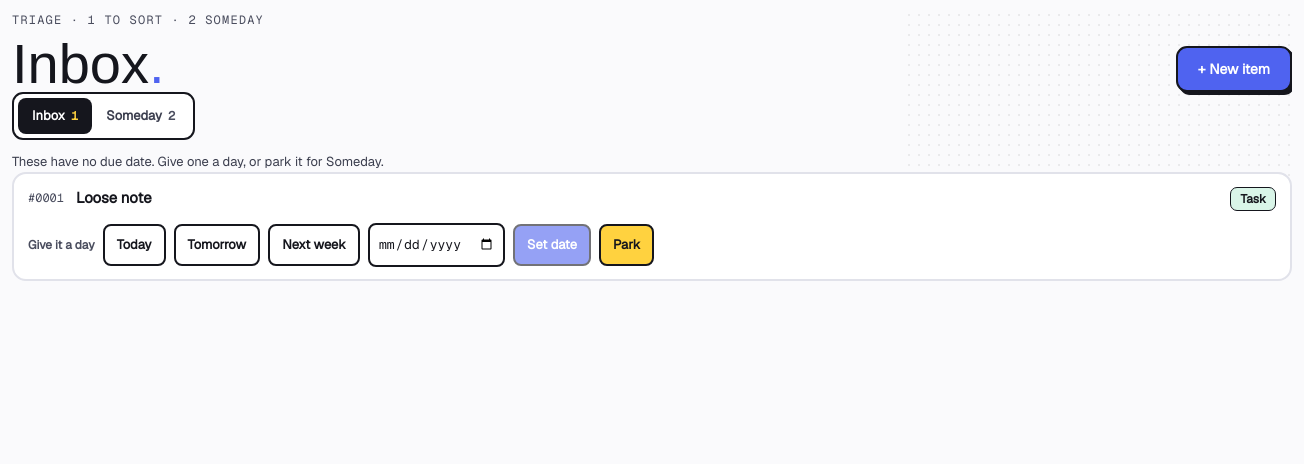
Test: Inbox triage › switches to Someday and offers a date or a return to the Inbox
Click the button "Someday 2" at [141, 116], box left=92, top=98, right=189, bottom=134
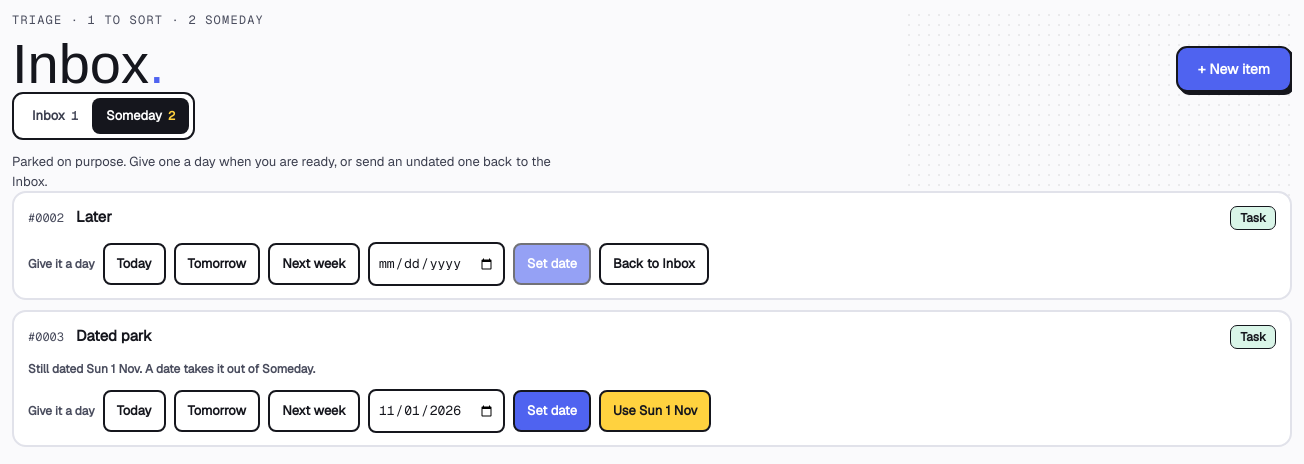
Check: the link "Loose note" is gone
Check: the link "Later" is shown, box left=76, top=206, right=112, bottom=229
Check: the link "Dated park" is shown, box left=76, top=325, right=152, bottom=348
